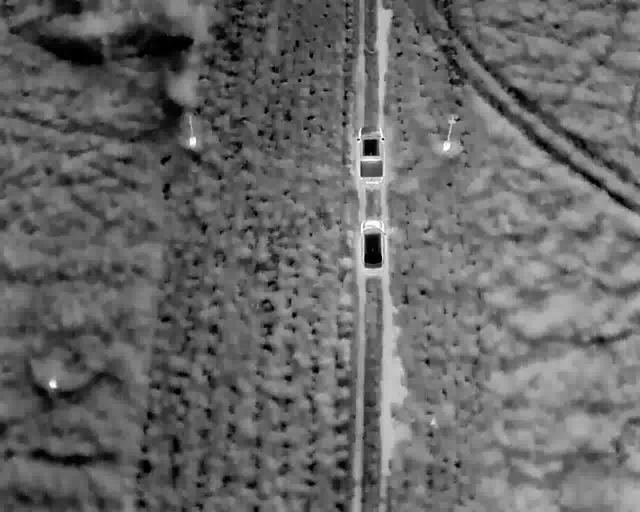car: (357, 126, 385, 184), (360, 219, 386, 270)
